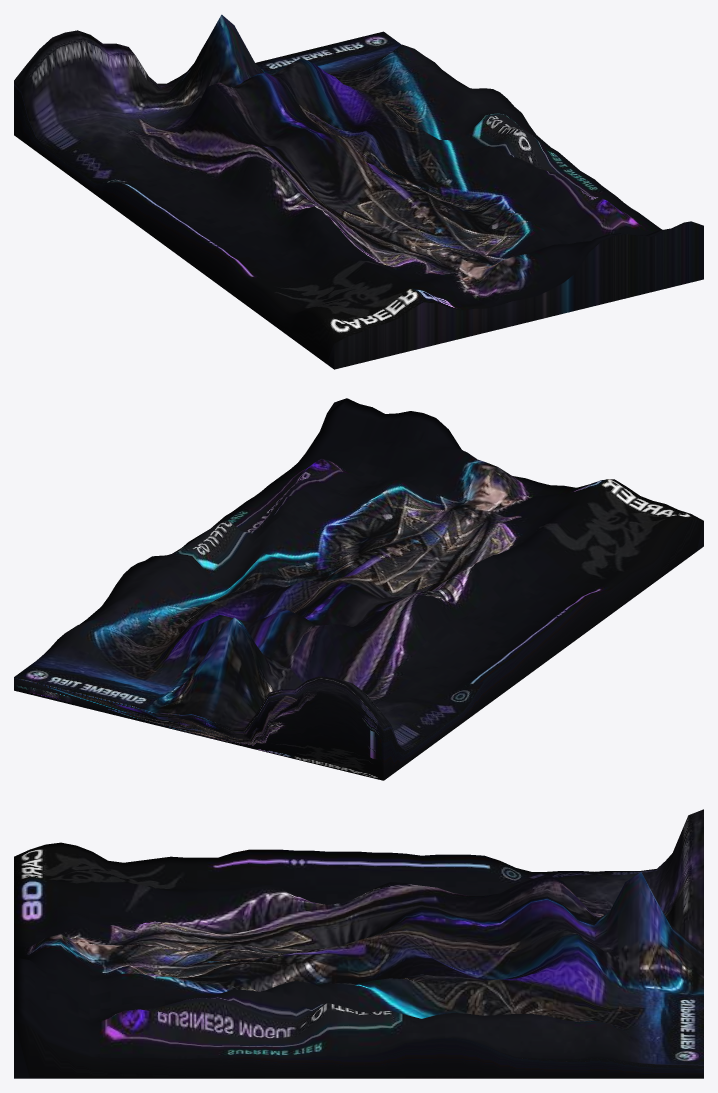
The model's file is CAREER_08_Outfit_05_Supreme.glb.
3 views of the same model, one above another, from view 1: azimuth 30°, elevation 25°; view 2: azimuth 150°, elevation 25°; view 3: azimuth 270°, elevation 25° (orthographic). The views are drawn at different scales.
Parts seen in each view (by area): view 1: CAREER_08_Outfit_05_Supreme; view 2: CAREER_08_Outfit_05_Supreme; view 3: CAREER_08_Outfit_05_Supreme.
Boxes of the visible parts, bbox=[...] form: CAREER_08_Outfit_05_Supreme: bbox=[14, 14, 703, 369]; CAREER_08_Outfit_05_Supreme: bbox=[14, 398, 703, 780]; CAREER_08_Outfit_05_Supreme: bbox=[14, 809, 703, 1078].
Bounding box in the file's own units: 2 × 0.51 × 3.
Materials: 1 (1 with a texture image).
